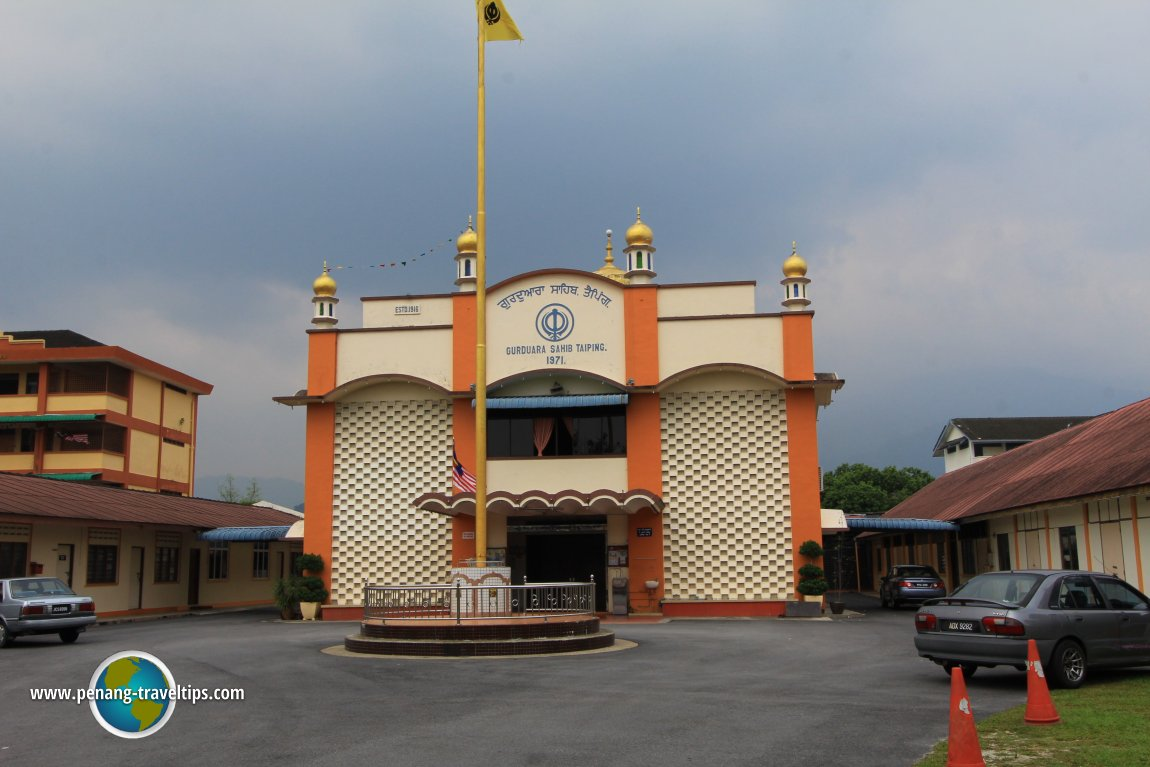Gurdwara: (298, 193, 839, 623)
